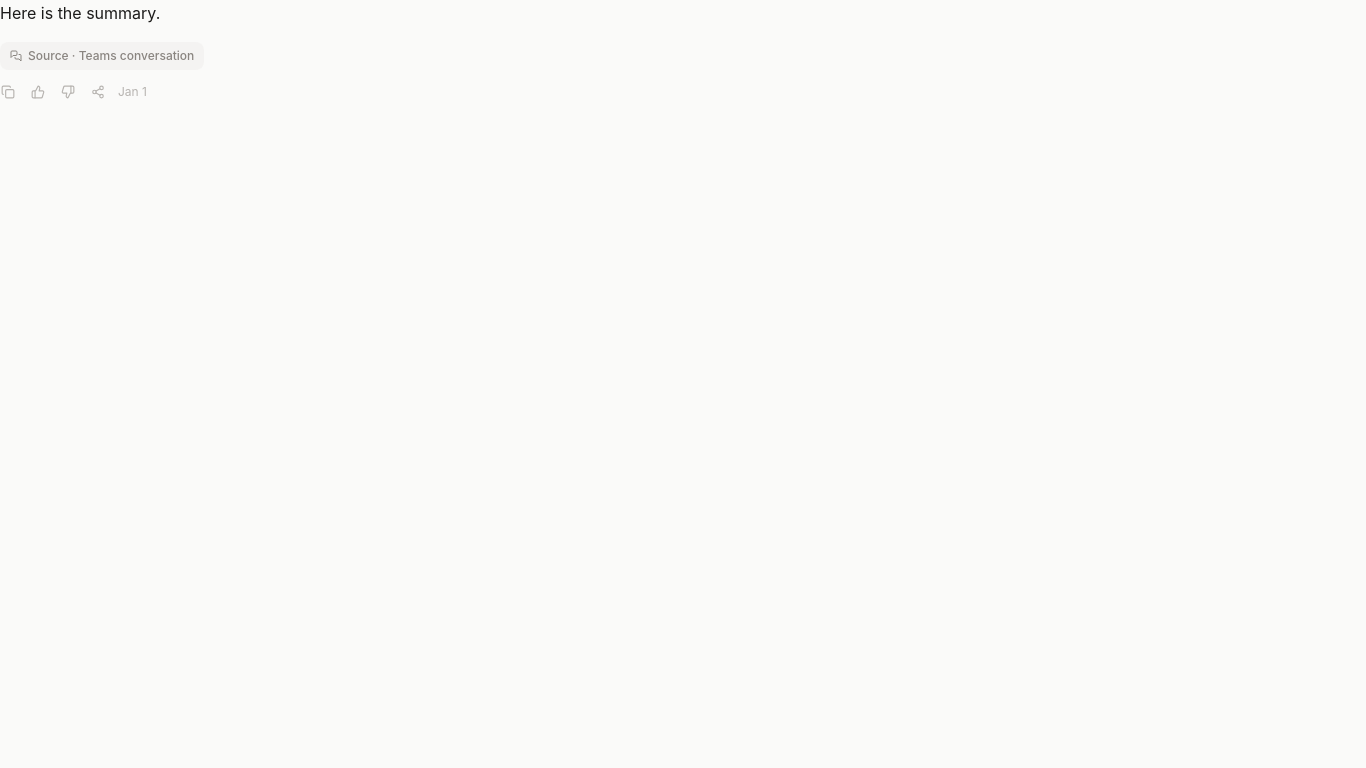
Scenario: Message — structured Teams source/provenance (pre-4H UX/provenance milestone) › clicking Source opens the existing right-side drawer with the safe Teams fields
Click the button "Source · Teams conversation" at (102, 56), box [0,42,204,70]
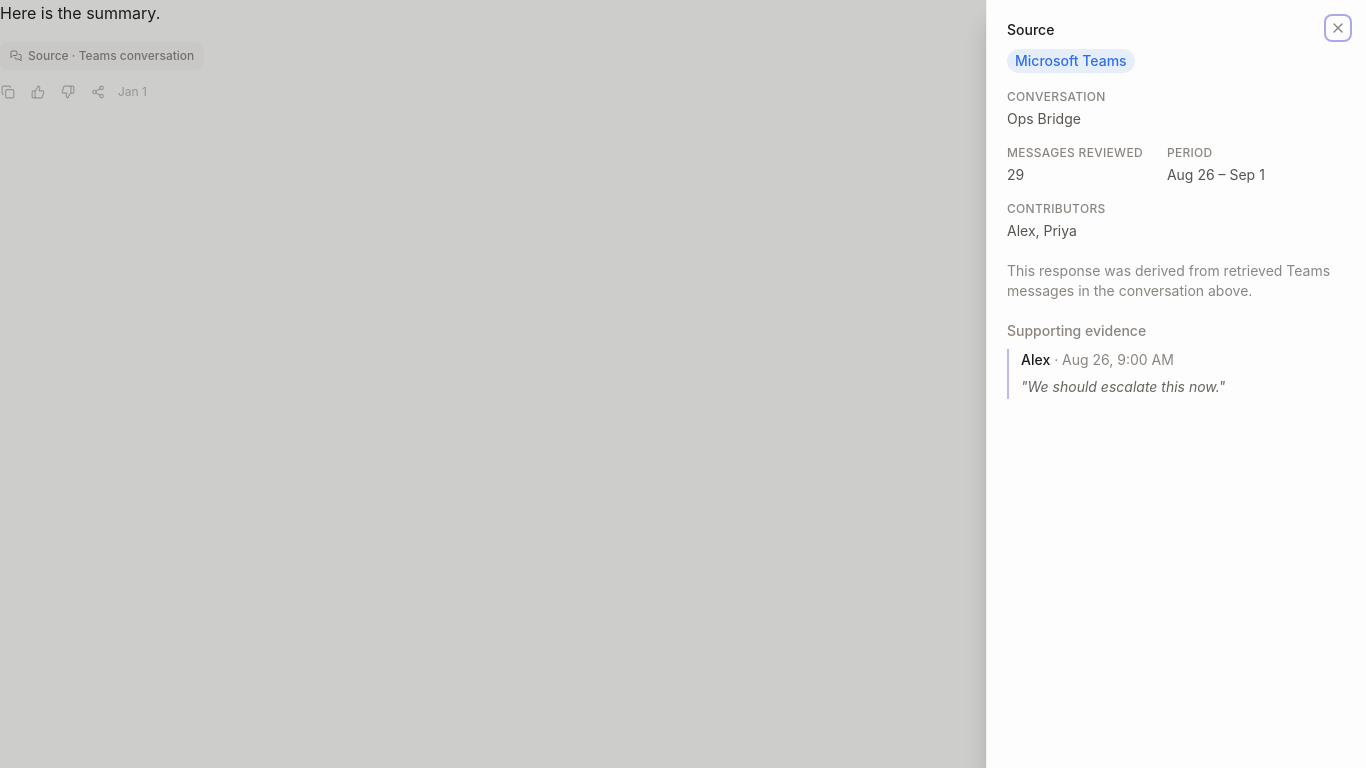
Result: the text "Microsoft Teams" is shown at [1007,49,1135,73]
Result: the text "Ops Bridge" is shown at [1007,110,1081,127]
Result: the text "29" is shown at [1007,166,1024,183]
